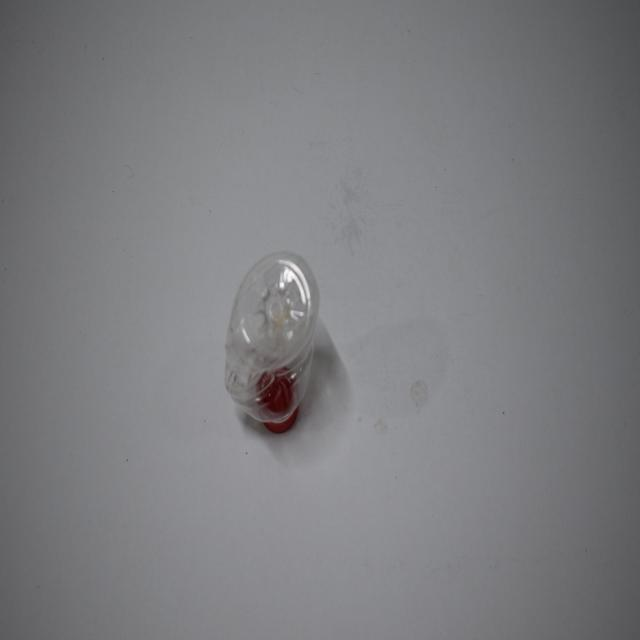bottle: (218, 244, 322, 444)
